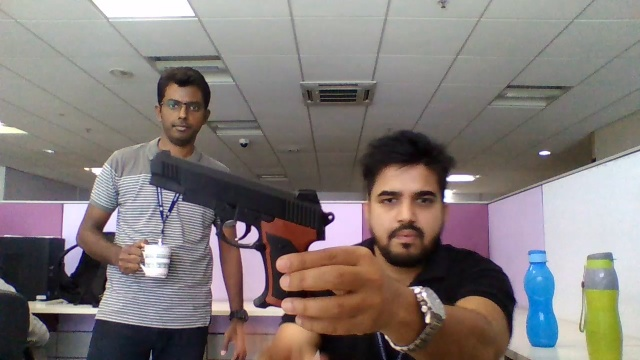gun: (148, 149, 336, 245)
